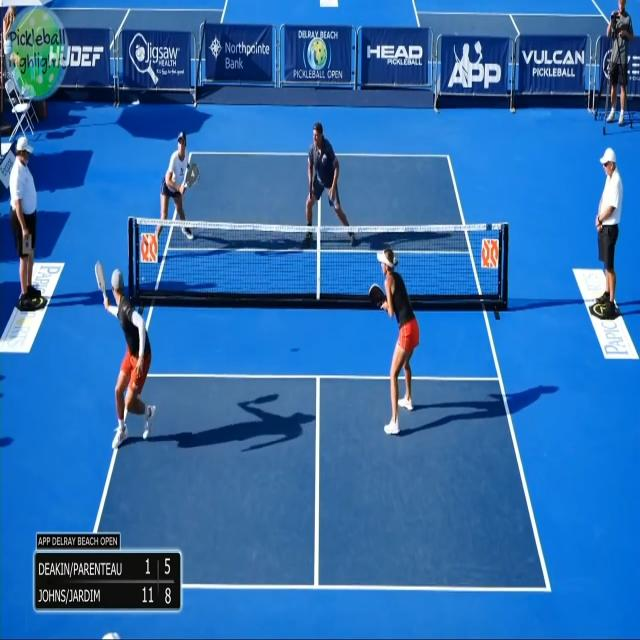Court: (83, 153, 550, 590)
